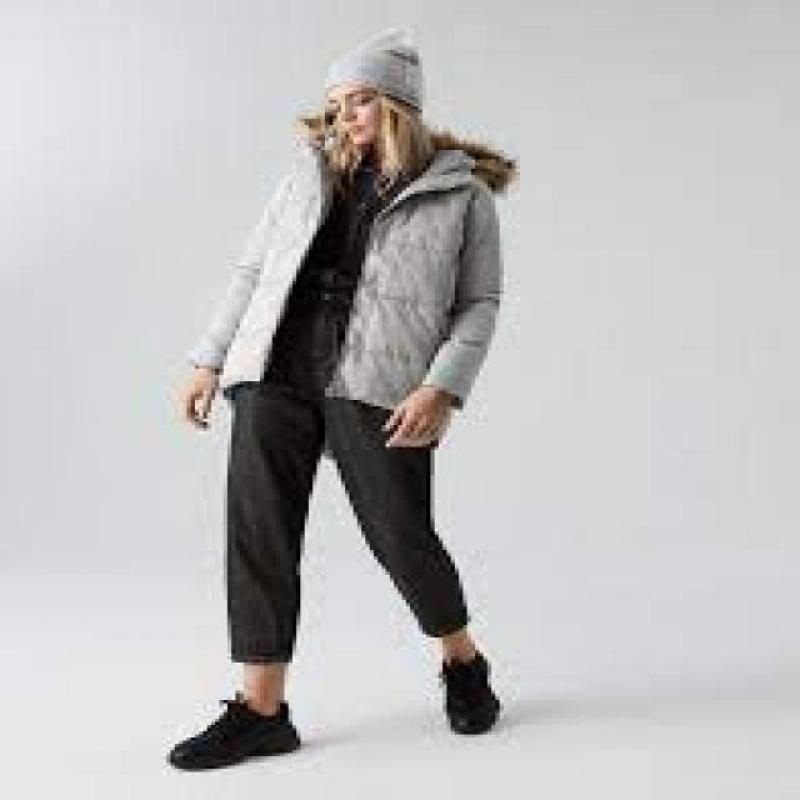coat: (191, 104, 518, 418)
trousers: (220, 378, 474, 664)
